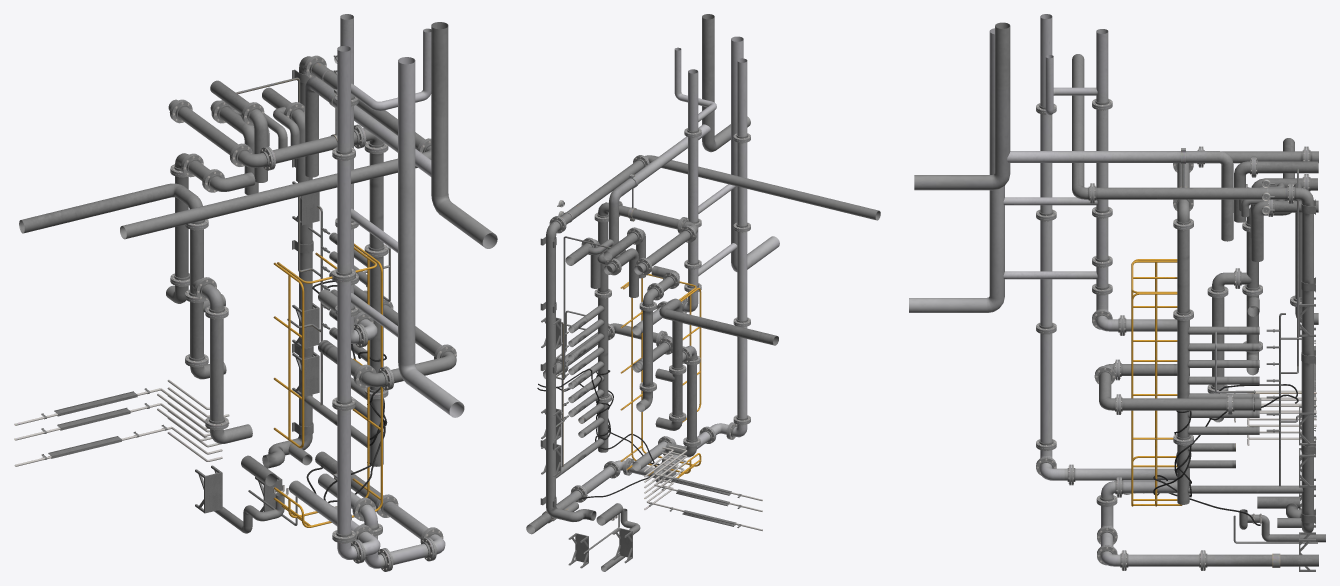
Rendered from gas_tank.obj.
3 renders of one model, left to right at view 1: azimuth 30°, elevation 25°; view 2: azimuth 150°, elevation 25°; view 3: azimuth 270°, elevation 25°, orthographic. The views are drawn at different scales.
Visible parts, largest first — view 1: gas_tank_main_machine_02; view 2: gas_tank_main_machine_02; view 3: gas_tank_main_machine_02.
Boxes of the visible parts, x1=… form: gas_tank_main_machine_02: x1=14, y1=14, x2=497, y2=571; gas_tank_main_machine_02: x1=526, y1=14, x2=880, y2=571; gas_tank_main_machine_02: x1=909, y1=14, x2=1325, y2=571.
Bounding box in the file's own units: 7.11 × 11.78 × 8.22.
Materials: 2 (2 with a texture image).
